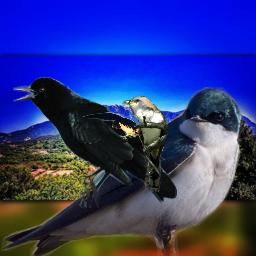Crow: (13, 77, 177, 208)
Cuckoo: (122, 96, 168, 192)
Swallow: (1, 87, 243, 256), (81, 108, 176, 157)
